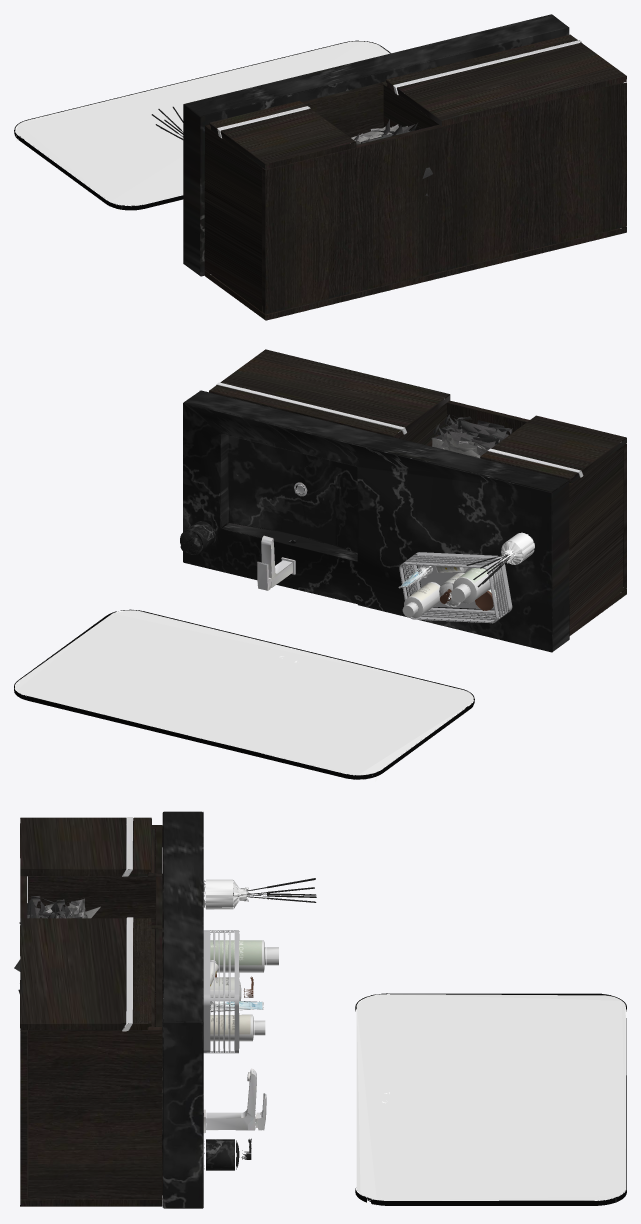
The model's file is bk_basin.glb.
3 renders of one model, top to bottom at view 1: azimuth 30°, elevation 25°; view 2: azimuth 150°, elevation 25°; view 3: azimuth 270°, elevation 25°, orthographic. The views are drawn at different scales.
Parts seen in each view (by area): view 1: basin + furniture, mirror, towel; view 2: basin + furniture, mirror, Cube.005, towel, Cylinder.006, Cylinder.005, Sphere.003, aroma; view 3: basin + furniture, mirror, Cube.005, Cylinder.006, towel, Cylinder.005, aroma, Sphere.003, Cylinder.008, Cylinder.004.
Boxes of the visible parts, x1,y1,x2,y2 form: basin + furniture: (183, 14, 626, 320); mirror: (14, 40, 390, 214); towel: (350, 119, 432, 196); basin + furniture: (183, 349, 626, 652); mirror: (14, 609, 474, 781); Cube.005: (399, 552, 512, 623); towel: (431, 414, 512, 458); Cylinder.006: (451, 564, 501, 603); Cylinder.005: (402, 582, 440, 618); Sphere.003: (180, 521, 215, 554); aroma: (501, 532, 534, 564); basin + furniture: (20, 811, 266, 1208); mirror: (355, 993, 626, 1208); Cube.005: (203, 930, 239, 1053); Cylinder.006: (210, 940, 278, 972); towel: (14, 896, 100, 1032); Cylinder.005: (210, 1014, 265, 1041); aroma: (203, 879, 248, 909); Sphere.003: (204, 1138, 251, 1170); Cylinder.008: (233, 878, 316, 902); Cylinder.004: (210, 976, 253, 1006).
Size of the model in its own units: 1.25 by 0.5333 by 1.53.
Materials: 15 (12 with a texture image).
